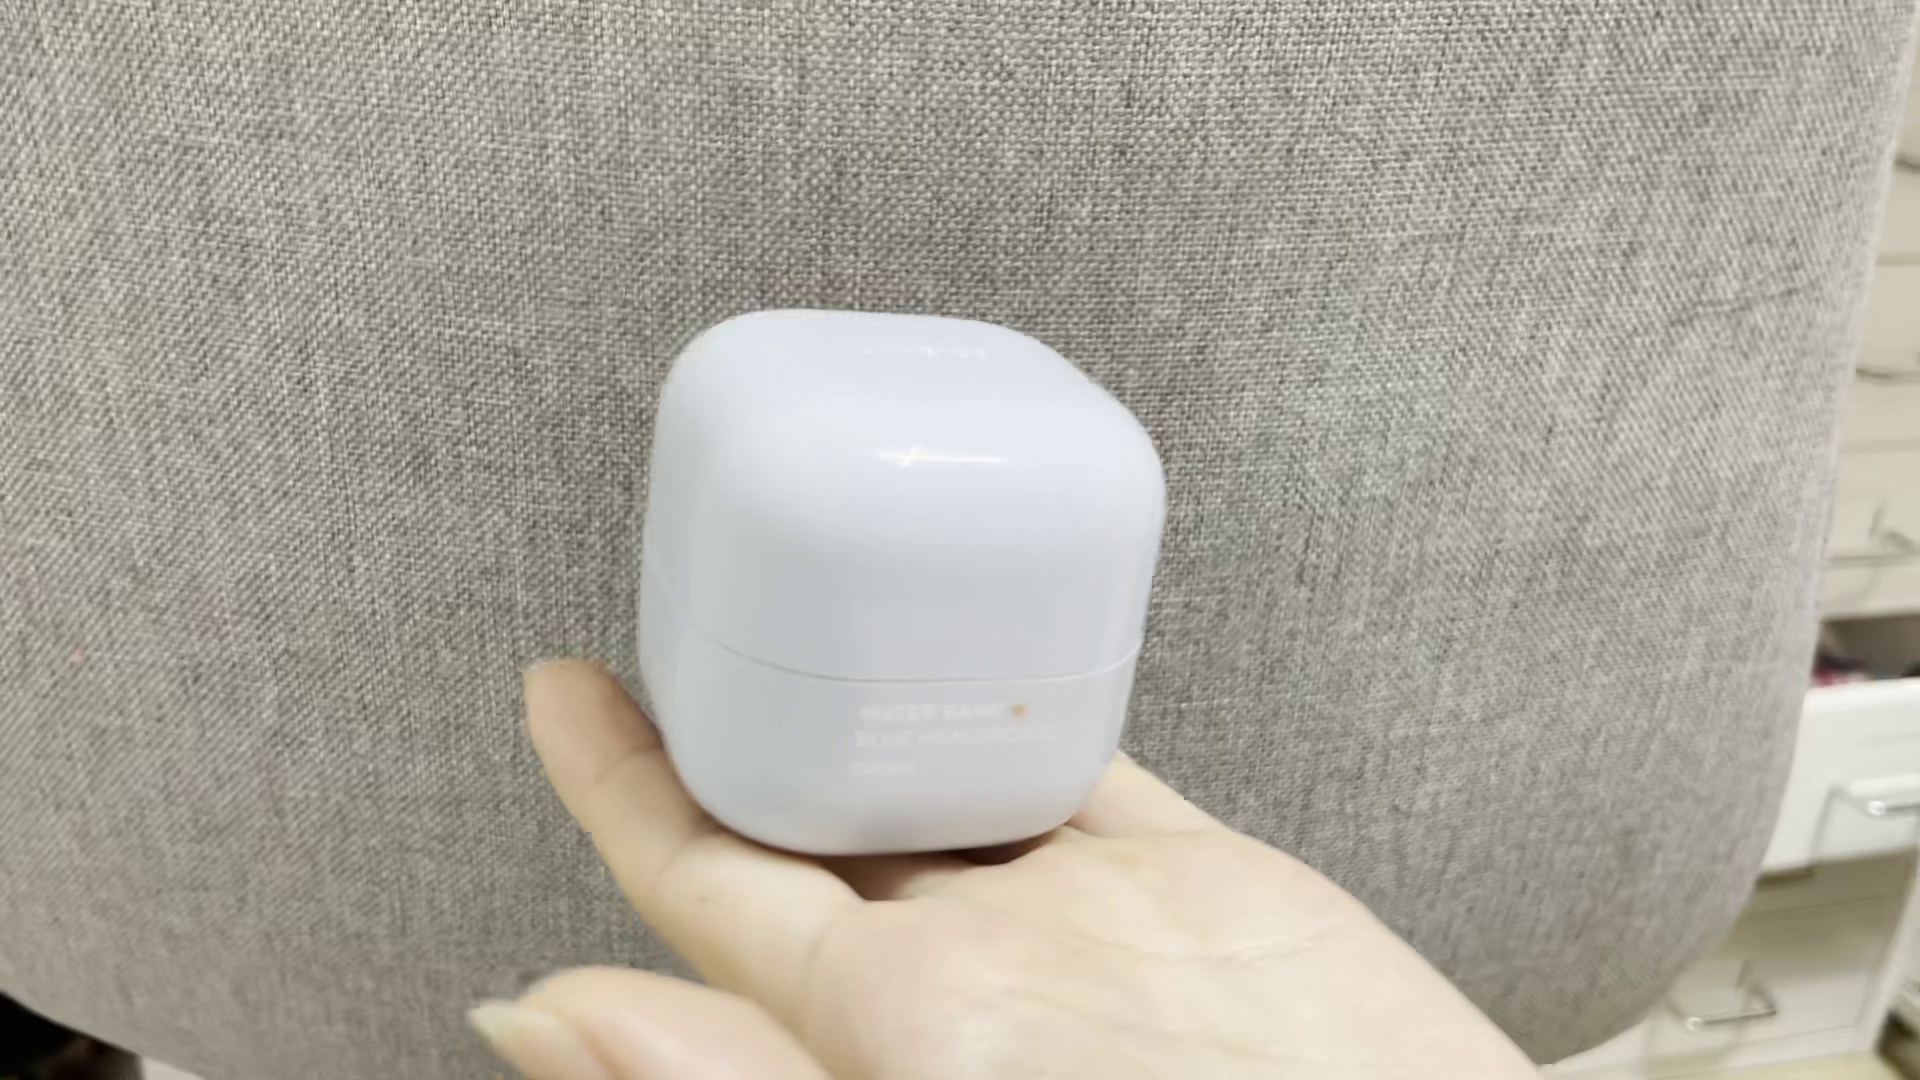cream: (628, 309, 1158, 855)
